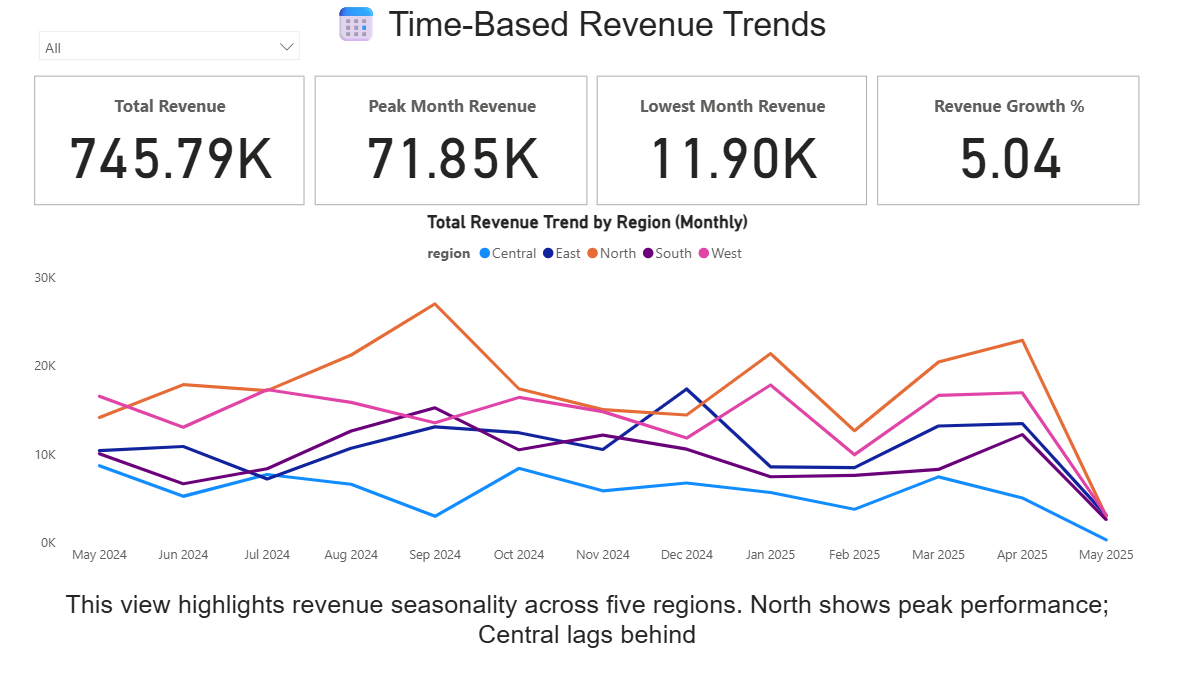

Layout of this report page (visuals, bound fields, positions):
{"tool":"powerbi","page":{"name":"Time Trend Analysis ","canvas":[1280,720],"ordinal":2},"visuals":[{"type":"lineChart","title":"Total Revenue Trend by Region (Monthly)","fields":{"Y":["Sales.Total Revenue"],"Category":["Sales.MonthYear"],"Series":["Stores.region"]},"box":[117.9,207.3,1058,343.7],"z":0},{"type":"cardVisual","fields":{"Data":["Sales.Total Revenue"]},"box":[117.9,73.8,267,133.5],"z":1000},{"type":"cardVisual","fields":{"Data":["Sales.Peak Month Revenue"]},"box":[383,73.8,269.8,133.5],"z":2000},{"type":"cardVisual","fields":{"Data":["Sales.Lowest Month Revenue"]},"box":[650.9,73.8,267,133.5],"z":3000},{"type":"cardVisual","fields":{"Data":["Sales.Revenue Growth %"]},"box":[916,73.8,259.9,133.5],"z":4000},{"type":"textbox","box":[103.7,1.4,1072.2,72.4],"z":5000},{"type":"textbox","box":[118,561,1058,159],"z":5001},{"type":"slicer","fields":{"Values":["Stores.region"]},"box":[117.9,27,267,46.9],"z":5002}]}

Visuals, with their boxes on the page's 1280x720 design canvas (x1, y1, x2, y2). These are canvas units, not pixel positions in the 1180x688 screenshot, which may show the page scaled, cropped or inside an application window:
"Total Revenue Trend by Region (Monthly)" lineChart: bbox=[118, 207, 1176, 551]
cardVisual - Sales.Total Revenue: bbox=[118, 74, 385, 207]
cardVisual - Sales.Peak Month Revenue: bbox=[383, 74, 653, 207]
cardVisual - Sales.Lowest Month Revenue: bbox=[651, 74, 918, 207]
cardVisual - Sales.Revenue Growth %: bbox=[916, 74, 1176, 207]
textbox: bbox=[104, 1, 1176, 74]
textbox: bbox=[118, 561, 1176, 720]
slicer - Stores.region: bbox=[118, 27, 385, 74]
